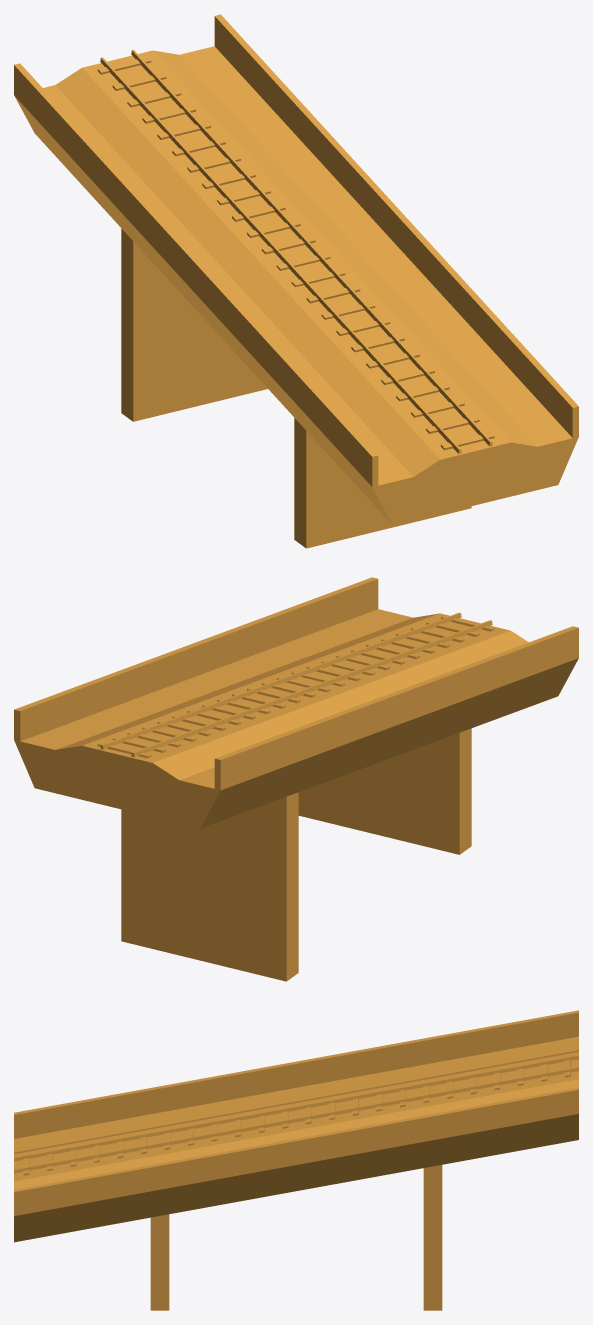
The model's file is bridge-rail-hill.glb.
3 views of the same model, one above another, from view 1: azimuth 30°, elevation 25°; view 2: azimuth 150°, elevation 25°; view 3: azimuth 270°, elevation 25° (orthographic). The views are drawn at different scales.
Visible parts, largest first — view 1: bridge-rail-hill; view 2: bridge-rail-hill; view 3: bridge-rail-hill.
Boxes of the visible parts, <box> form: bridge-rail-hill: <box>14,14,578,548</box>; bridge-rail-hill: <box>14,577,578,981</box>; bridge-rail-hill: <box>14,1010,578,1310</box>.
Bounding box in the file's own units: 10 × 13.4 × 30.
